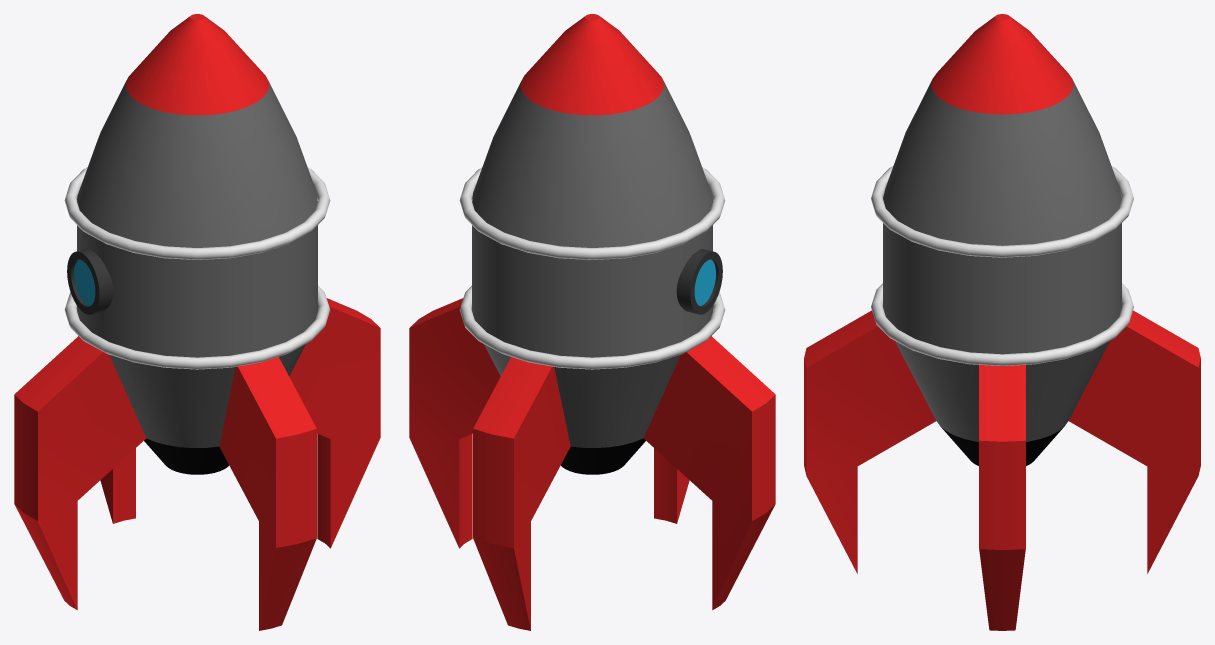
File: Rocket.fbx
3 renders of one model, left to right at view 1: azimuth 30°, elevation 25°; view 2: azimuth 150°, elevation 25°; view 3: azimuth 270°, elevation 25°, orthographic.
Visible parts, largest first — view 1: Cylinder, Torus, Torus.001, Cylinder.001; view 2: Cylinder, Torus, Torus.001, Cylinder.001; view 3: Cylinder, Torus, Torus.001.
Boxes of the visible parts, left/top/right/bottom form: Cylinder: left=14, top=14, right=380, bottom=630; Torus: left=64, top=167, right=330, bottom=259; Torus.001: left=64, top=286, right=330, bottom=369; Cylinder.001: left=67, top=249, right=113, bottom=314; Cylinder: left=409, top=14, right=775, bottom=630; Torus: left=459, top=167, right=725, bottom=259; Torus.001: left=459, top=286, right=725, bottom=369; Cylinder.001: left=676, top=249, right=722, bottom=314; Cylinder: left=804, top=14, right=1200, bottom=630; Torus: left=871, top=166, right=1133, bottom=257; Torus.001: left=871, top=283, right=1133, bottom=365.
Bounding box in the file's own units: 332 × 509 × 332.
